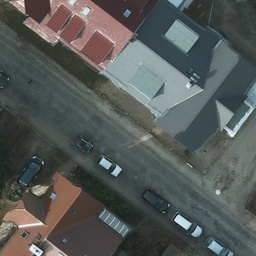car: (18, 153, 44, 189), (169, 213, 202, 238), (143, 187, 171, 215), (96, 154, 123, 179), (203, 238, 235, 256), (72, 134, 94, 152), (1, 67, 9, 89)
